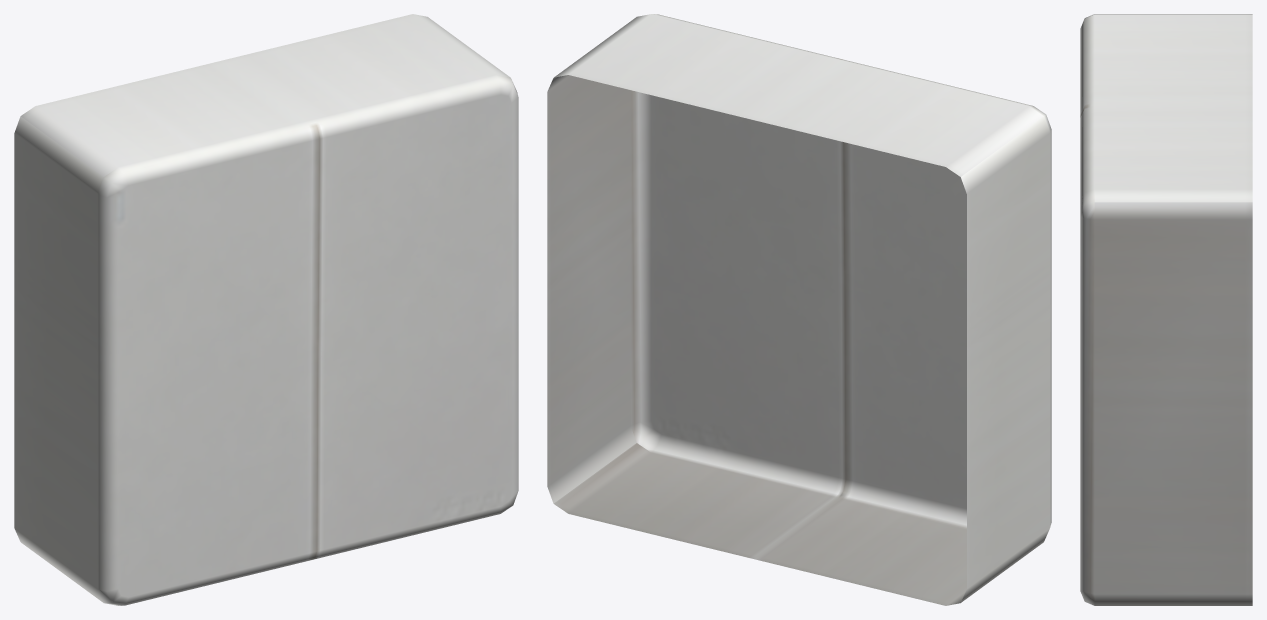
File: KaiGuan.fbx
3 renders of one model, left to right at view 1: azimuth 30°, elevation 25°; view 2: azimuth 150°, elevation 25°; view 3: azimuth 270°, elevation 25°, orthographic. The views are drawn at different scales.
Parts seen in each view (by area): view 1: KaiGuan; view 2: KaiGuan; view 3: KaiGuan.
Boxes of the visible parts, x1,y1,x2,y2 form: KaiGuan: [14, 14, 518, 605]; KaiGuan: [547, 14, 1051, 605]; KaiGuan: [1080, 14, 1252, 605].
Bounding box in the file's own units: 8 × 8 × 3.
Materials: 1 (1 with a texture image).
